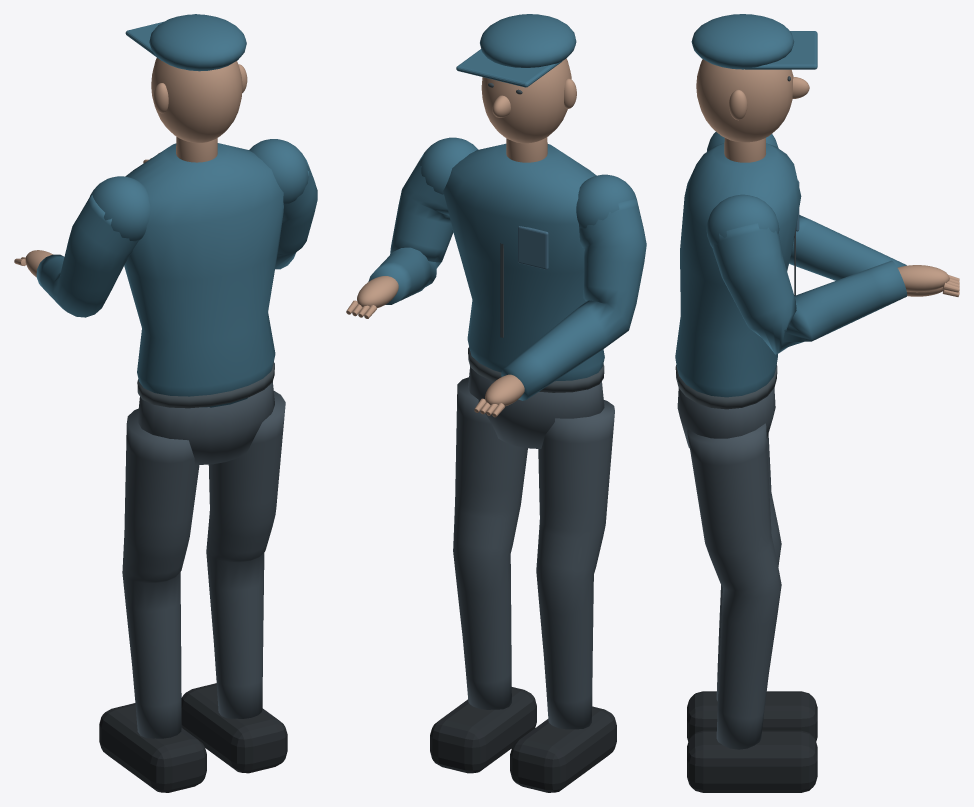
The model's file is production-worker.glb.
3 views of the same model, side by side, from view 1: azimuth 30°, elevation 25°; view 2: azimuth 150°, elevation 25°; view 3: azimuth 270°, elevation 25° (orthographic).
Visible parts, largest first — view 1: Operator | tailored torso, Operator | trouser leg, Operator | trouser leg.001, Operator | work sleeve, Operator | pelvis, Operator | safety boot, Operator | safety boot.001, Operator | head, Operator | work cap, Operator | shoulder, Operator | shoulder.001, Operator | work sleeve.001 (+2 smaller); view 2: Operator | tailored torso, Operator | trouser leg, Operator | trouser leg.001, Operator | work sleeve, Operator | work sleeve.001, Operator | safety boot, Operator | safety boot.001, Operator | pelvis, Operator | head, Operator | work cap, Operator | shoulder, Operator | shoulder.001 (+6 smaller); view 3: Operator | trouser leg.001, Operator | tailored torso, Operator | work sleeve.001, Operator | safety boot.001, Operator | head, Operator | work cap, Operator | work sleeve, Operator | safety boot, Operator | pelvis, Operator | shoulder.001, Operator | cap brim, Operator | belt (+3 smaller).
Boxes of the visible parts, x1,y1,x2,y2 form: Operator | tailored torso: (124, 143, 283, 407); Operator | trouser leg: (122, 408, 199, 738); Operator | trouser leg.001: (206, 391, 285, 718); Operator | work sleeve: (36, 195, 138, 317); Operator | pelvis: (137, 382, 274, 464); Operator | safety boot: (99, 703, 206, 792); Operator | safety boot.001: (181, 683, 287, 773); Operator | head: (151, 58, 242, 142); Operator | work cap: (149, 14, 246, 71); Operator | shoulder: (89, 176, 150, 241); Operator | shoulder.001: (249, 139, 308, 204); Operator | work sleeve.001: (275, 157, 317, 269); Operator | tailored torso: (443, 143, 604, 391); Operator | trouser leg: (536, 400, 614, 729); Operator | trouser leg.001: (453, 377, 527, 709); Operator | work sleeve: (501, 199, 646, 400); Operator | work sleeve.001: (368, 153, 453, 304); Operator | safety boot: (510, 706, 616, 792); Operator | safety boot.001: (430, 687, 536, 773); Operator | pelvis: (468, 366, 604, 448); Operator | head: (481, 58, 571, 143); Operator | work cap: (480, 14, 576, 67); Operator | shoulder: (576, 174, 637, 228); Operator | shoulder.001: (420, 137, 478, 194); Operator | trouser leg.001: (687, 423, 781, 749); Operator | tailored torso: (675, 143, 801, 397); Operator | work sleeve.001: (712, 223, 907, 354); Operator | safety boot.001: (687, 730, 817, 792); Operator | head: (696, 59, 793, 142); Operator | work cap: (691, 14, 794, 69); Operator | work sleeve: (789, 215, 906, 280); Operator | safety boot: (687, 691, 817, 741); Operator | pelvis: (677, 388, 775, 448); Operator | shoulder.001: (706, 194, 779, 248); Operator | cap brim: (744, 31, 817, 69); Operator | belt: (675, 364, 777, 409).
Size of the model in its own units: 0.5989 by 1.76 by 0.6094.
